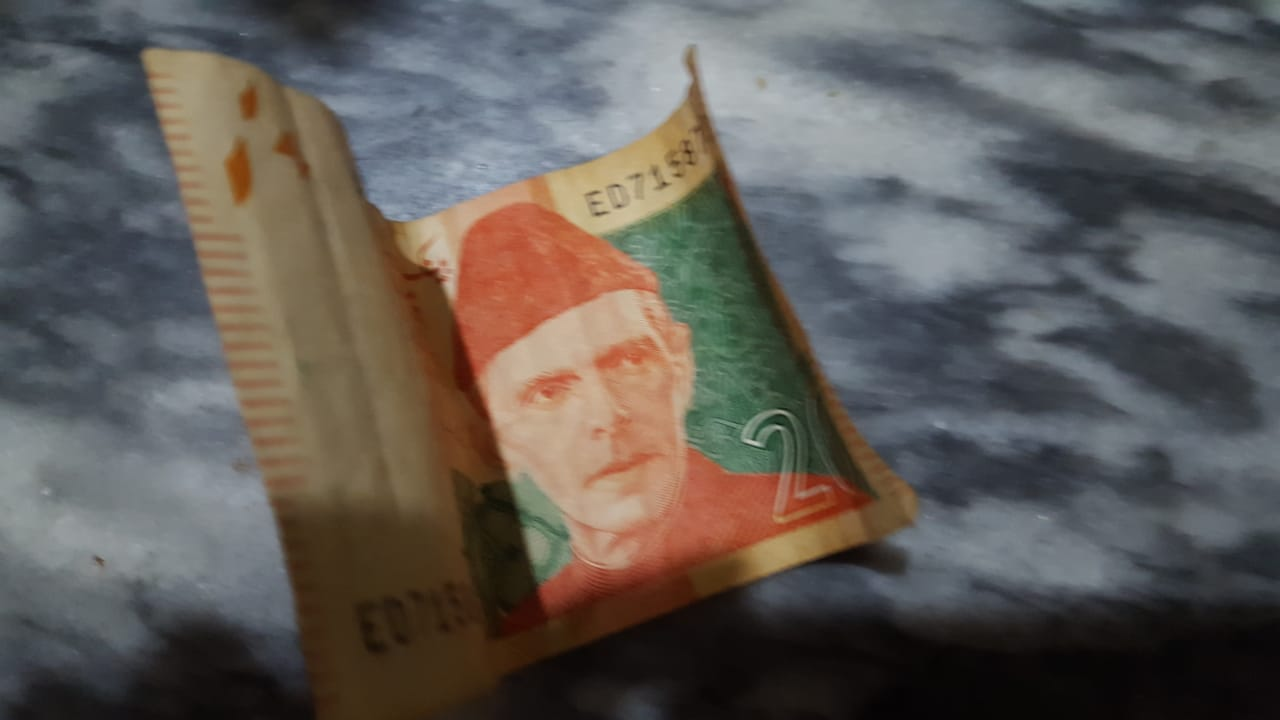20 rupee: (119, 30, 925, 679)
